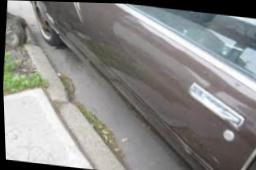Door: (49, 13, 233, 170)
